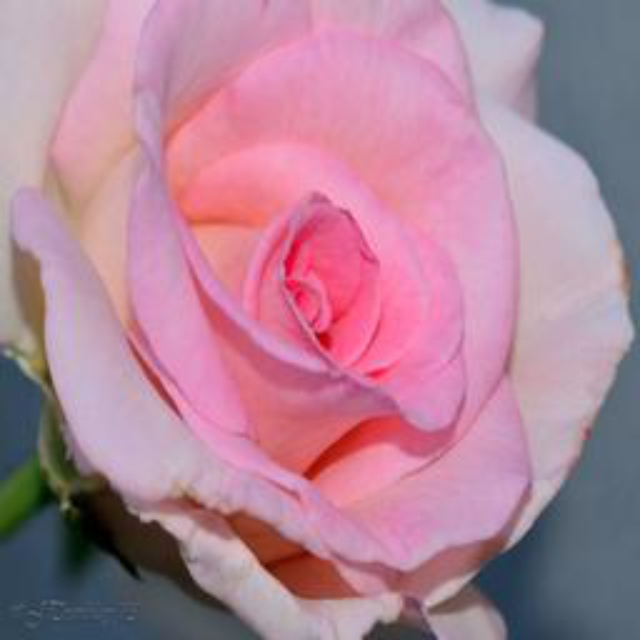rose: (5, 2, 633, 616)
